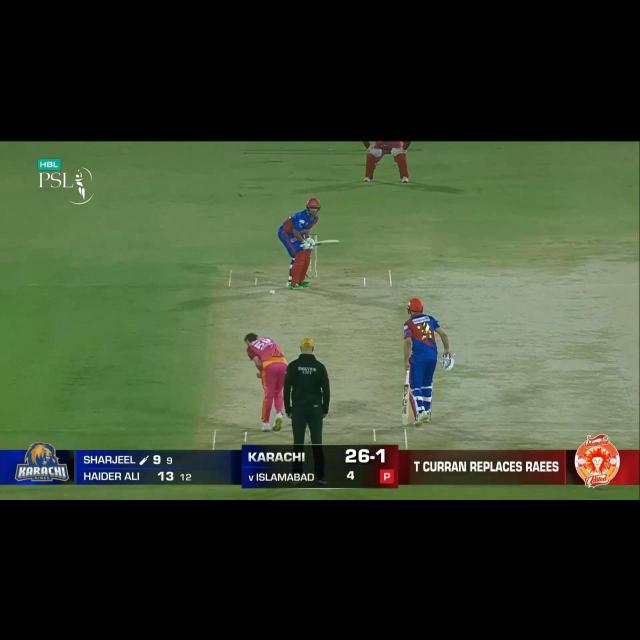bat: (400, 385, 412, 426), (310, 236, 341, 248)
toe: (398, 418, 410, 428), (335, 236, 341, 247)
